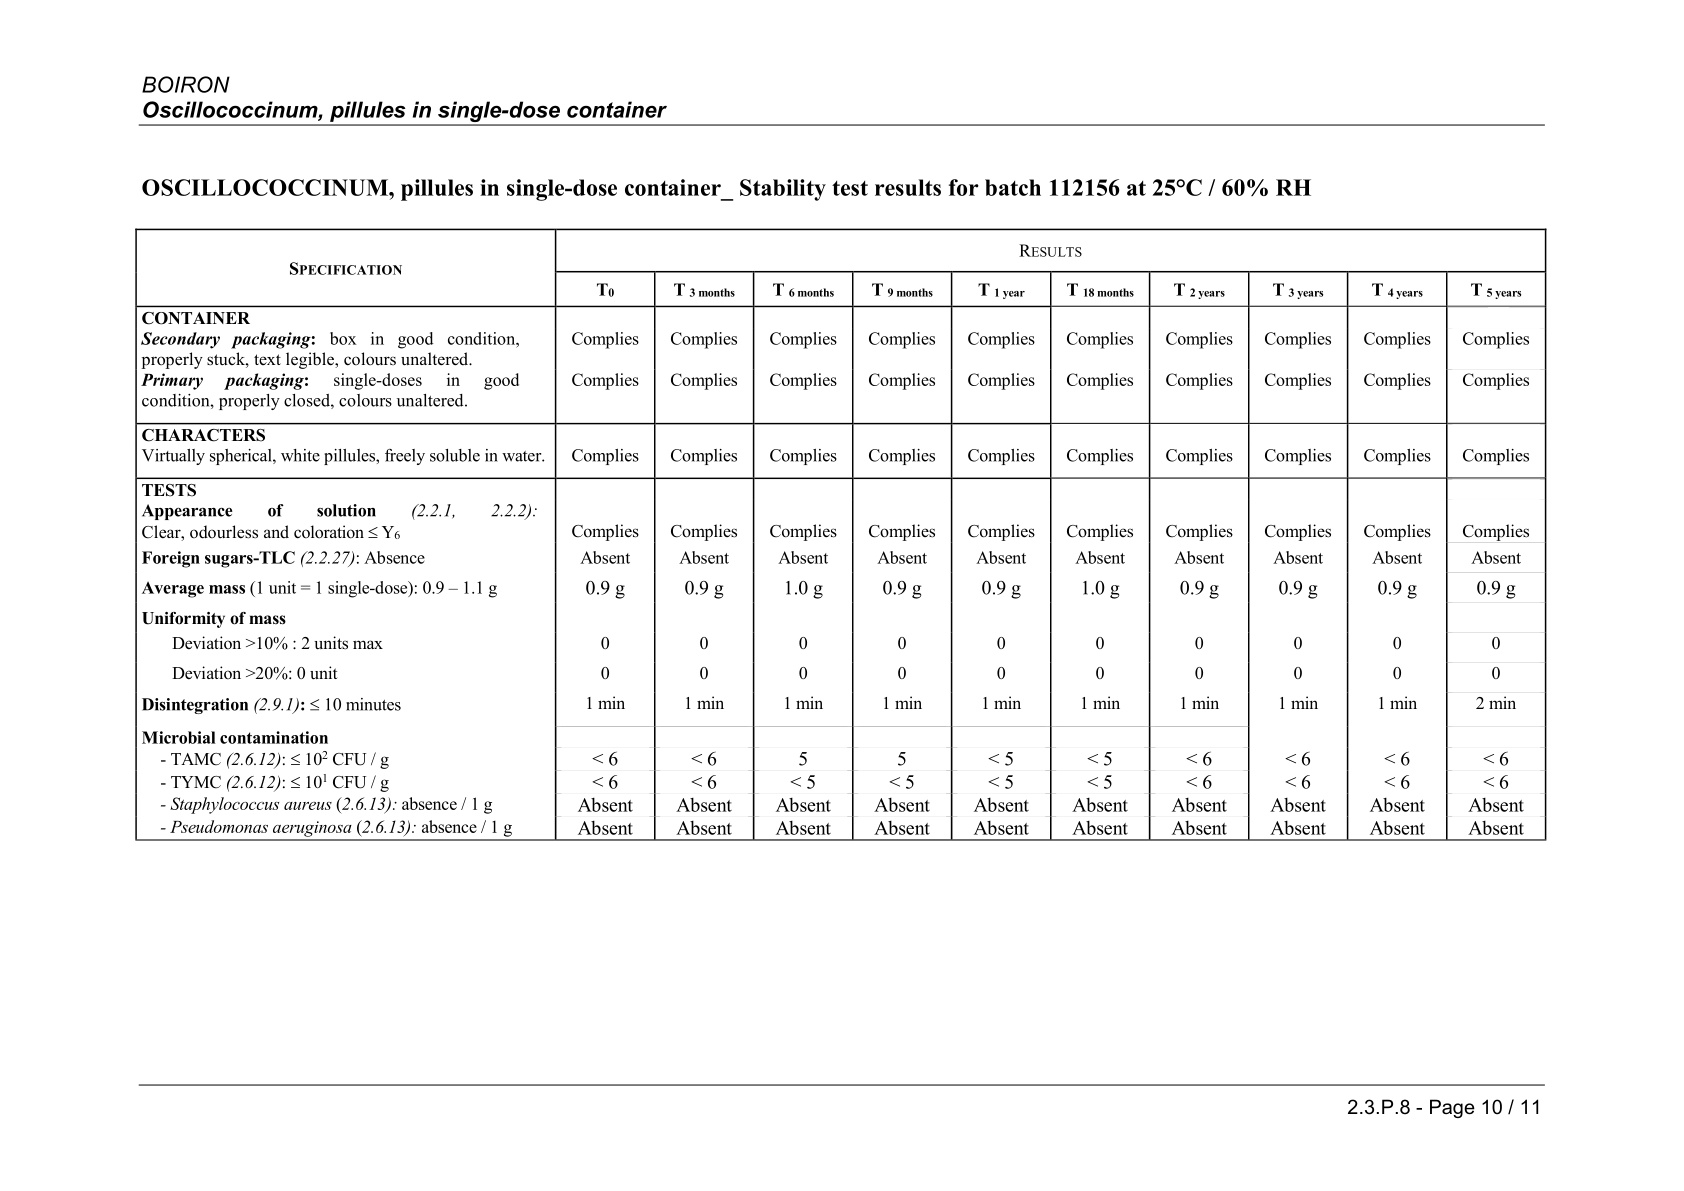merged_cells: (134, 227, 1547, 840)
